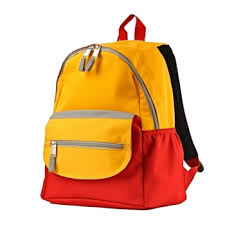bag: (46, 18, 196, 207)
